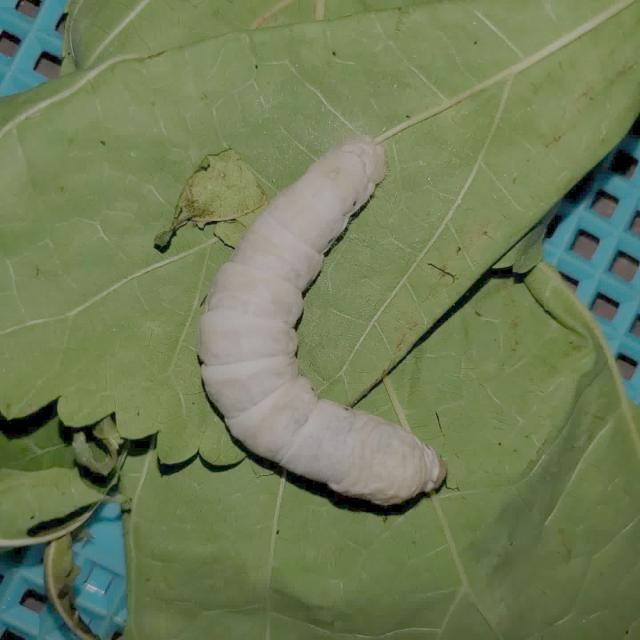Grasserie: (181, 98, 477, 524)
